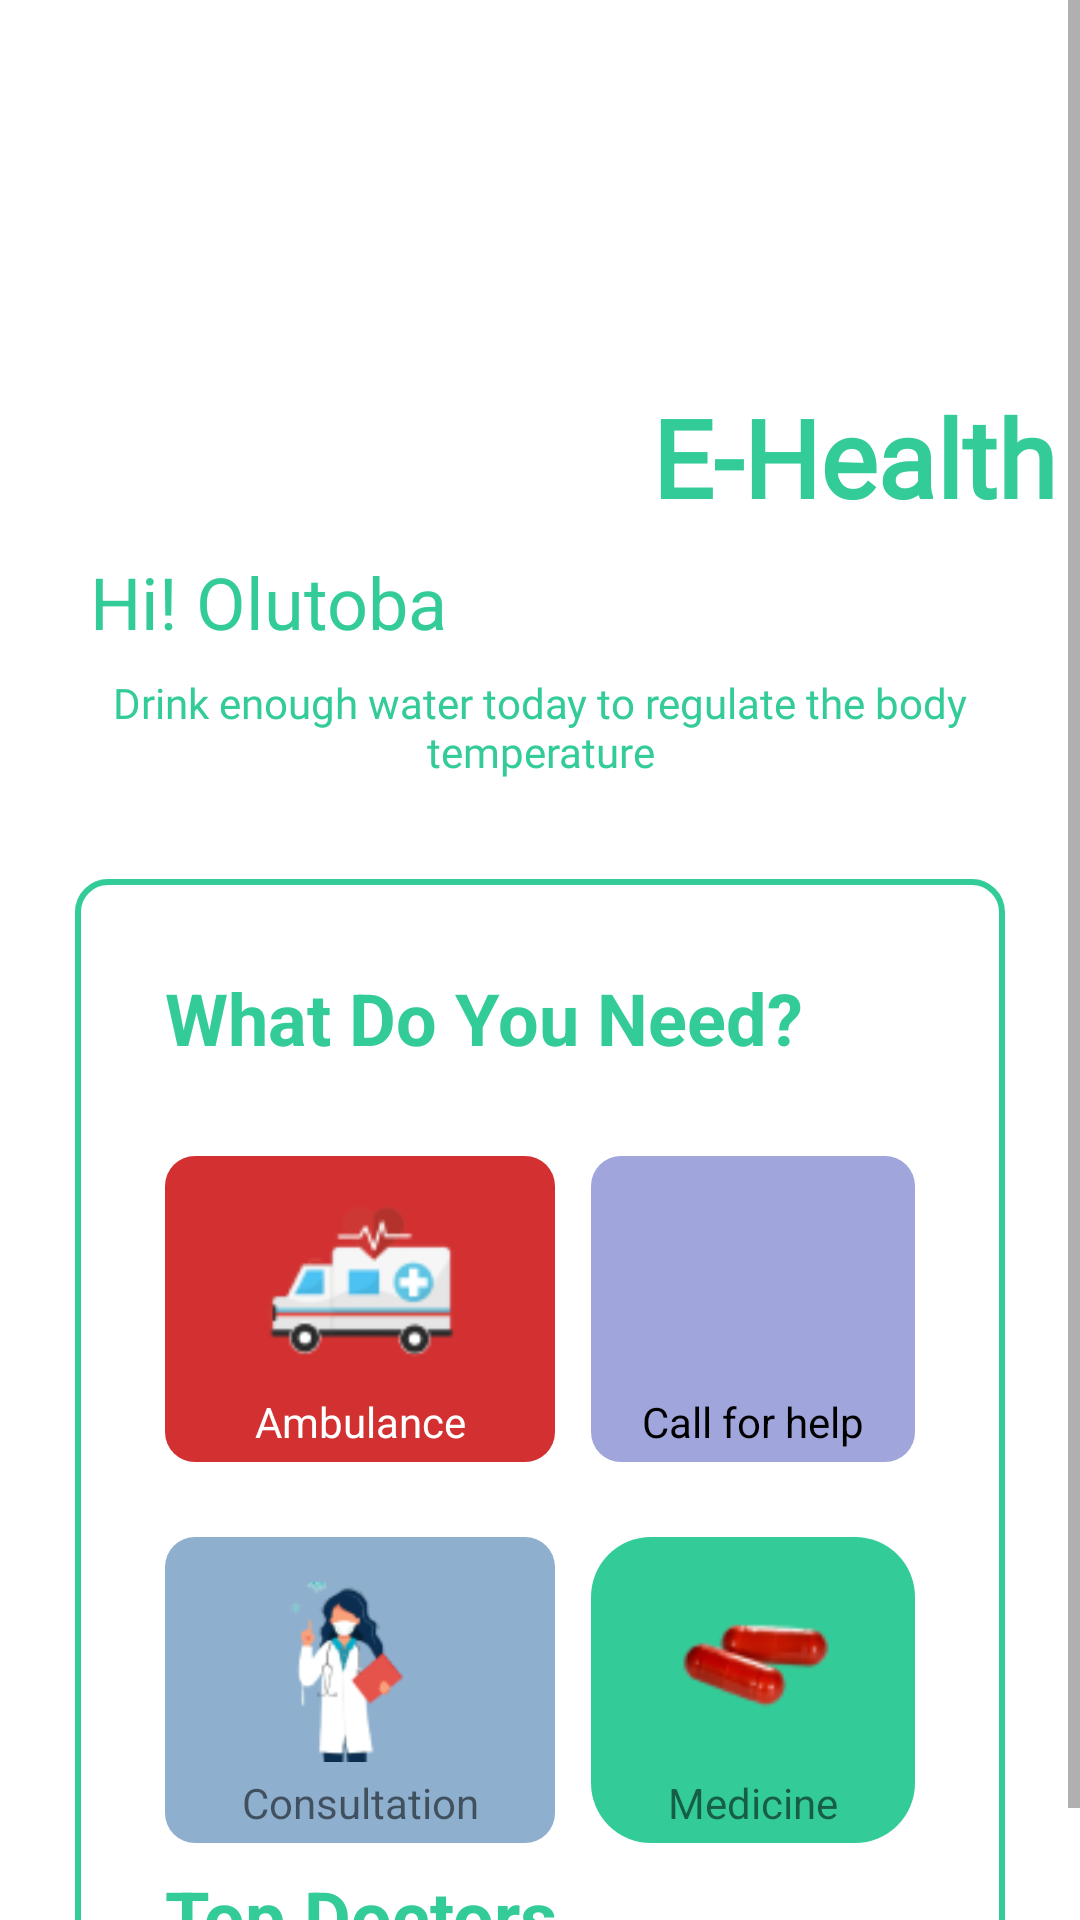

Icon bounding boxes for this 1080*1920 phone screenshot, format (x1, y1, x2, y2):
Cartoon Doctor Image: (295, 1582, 403, 1762)
